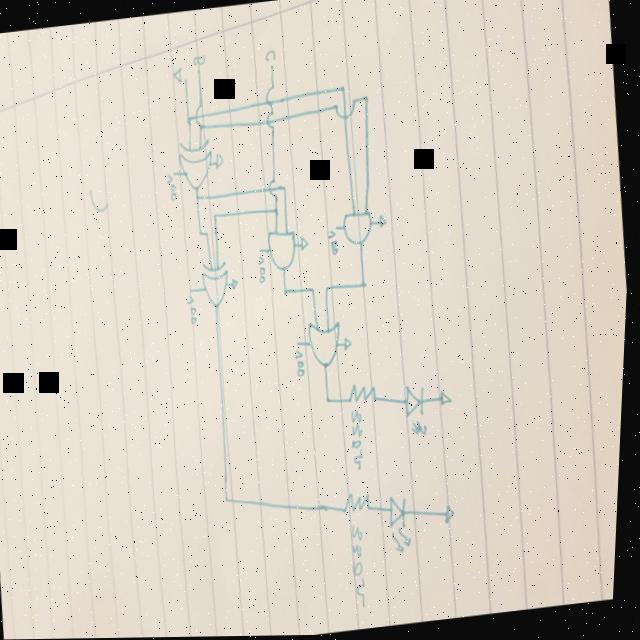crossover: (334, 97, 358, 121), (194, 103, 208, 130), (264, 83, 277, 106), (264, 110, 277, 129), (267, 177, 278, 198)
diode: (388, 492, 422, 557), (404, 381, 435, 446)
ground: (441, 389, 457, 412), (299, 233, 314, 257), (446, 502, 461, 525), (214, 151, 227, 170), (345, 336, 356, 351), (379, 214, 389, 228), (232, 277, 242, 290)
junction: (361, 279, 371, 291), (200, 227, 210, 238), (362, 91, 371, 102), (339, 83, 348, 93), (227, 493, 235, 504), (328, 394, 336, 405), (327, 283, 335, 294), (311, 284, 319, 295), (282, 183, 291, 192), (284, 285, 291, 296), (213, 210, 221, 219), (274, 206, 281, 215), (196, 193, 203, 202), (186, 115, 193, 124)
resistor: (344, 488, 378, 521), (349, 380, 383, 412)
source: (336, 224, 342, 230), (298, 340, 303, 346), (260, 248, 265, 253), (173, 170, 177, 176), (191, 288, 195, 293)
terminal: (267, 61, 277, 74), (182, 75, 191, 86), (196, 66, 204, 78)
text: (351, 521, 375, 609), (349, 408, 372, 471), (164, 172, 180, 202), (188, 293, 202, 326), (257, 254, 272, 284), (296, 348, 310, 378), (328, 229, 342, 257), (172, 66, 185, 83), (192, 53, 207, 66), (264, 47, 277, 62)
